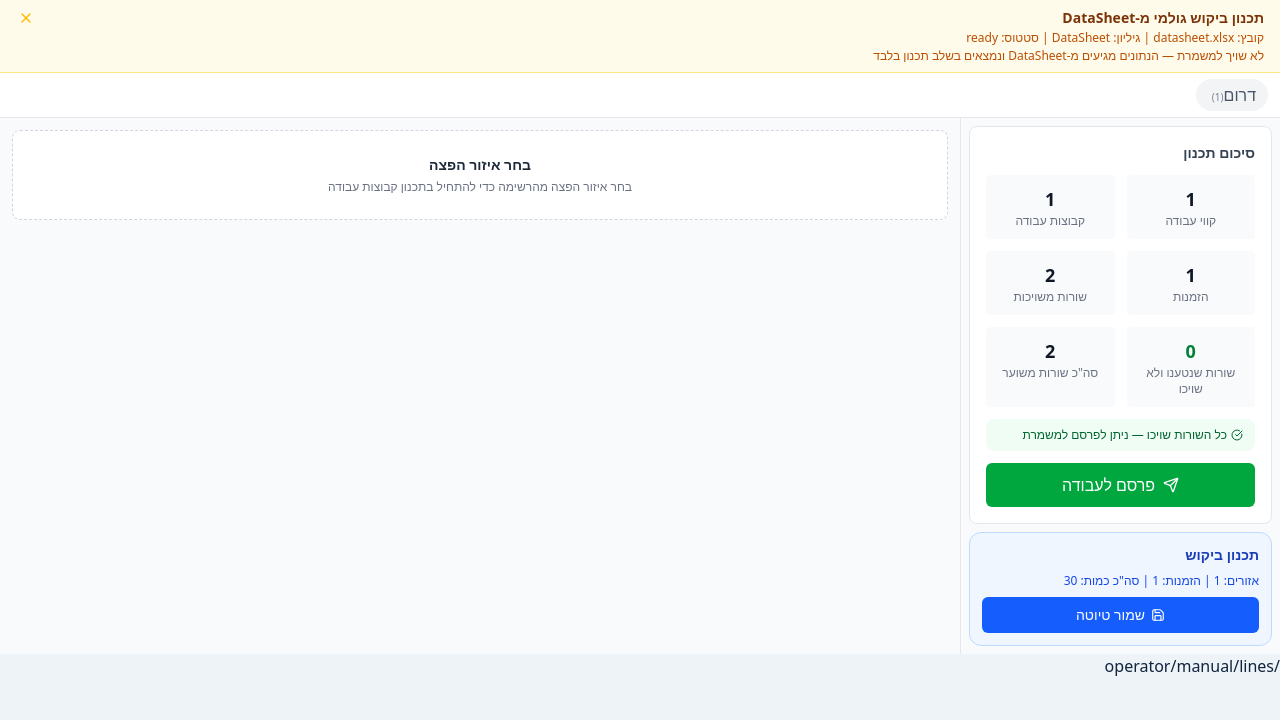
it: SchemeBuilder demand lifecycle hardening › renders conflict section when publish-to-shift returns ROLLING_DEMAND_STALE_OR_UNAVAILABLE
Click the button "פרסם לעבודה" at (1120, 485), box top-left (986, 463), bottom-right (1255, 507)
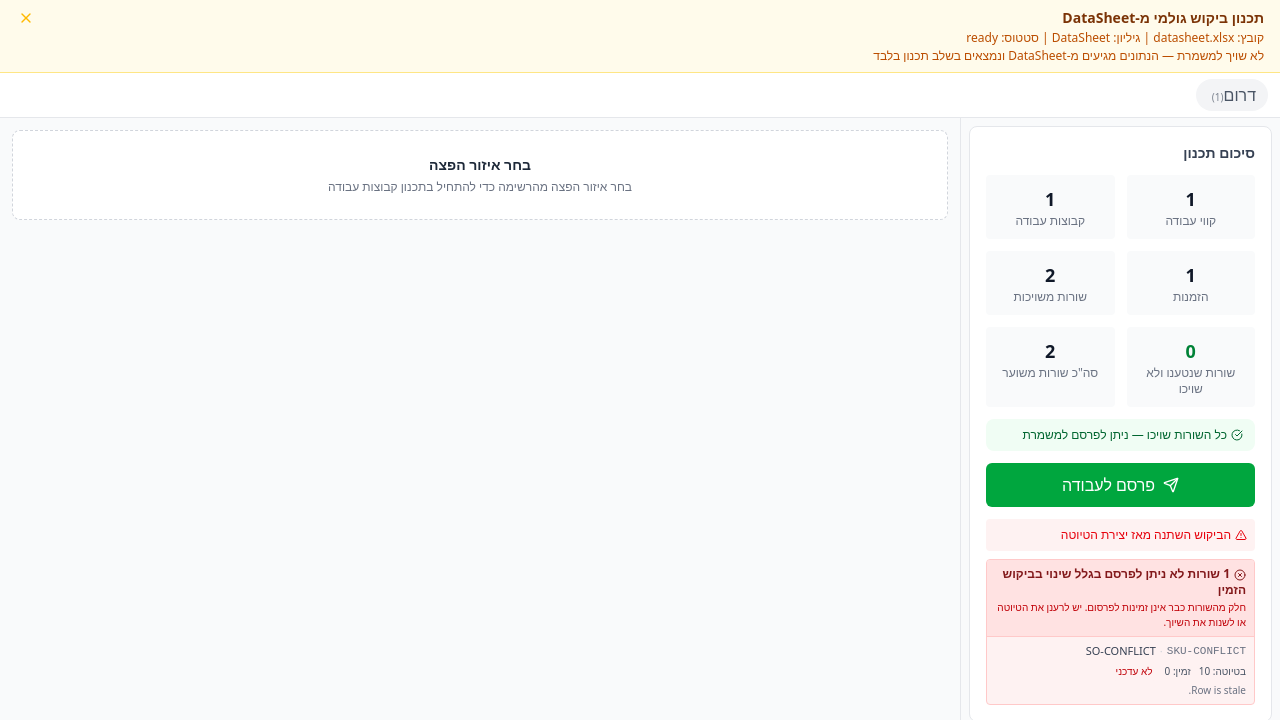
Expected: the text "הביקוש השתנה מאז יצירת הטיוטה" is shown, top-left (1061, 527), bottom-right (1231, 543)
Expected: the text "1 שורות לא ניתן לפרסם בגלל שינוי בביקוש הזמין" is shown, top-left (995, 566), bottom-right (1246, 598)
Expected: the text "SKU-CONFLICT" is shown, top-left (1167, 643), bottom-right (1246, 660)
